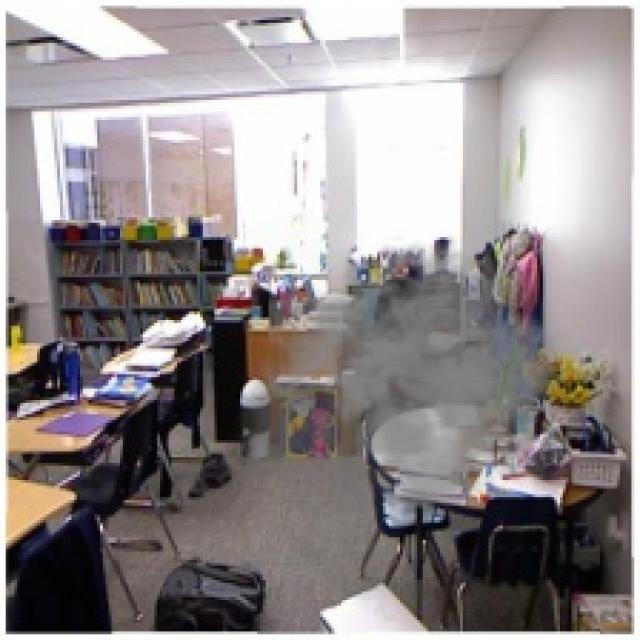smoke: (226, 234, 580, 606)
